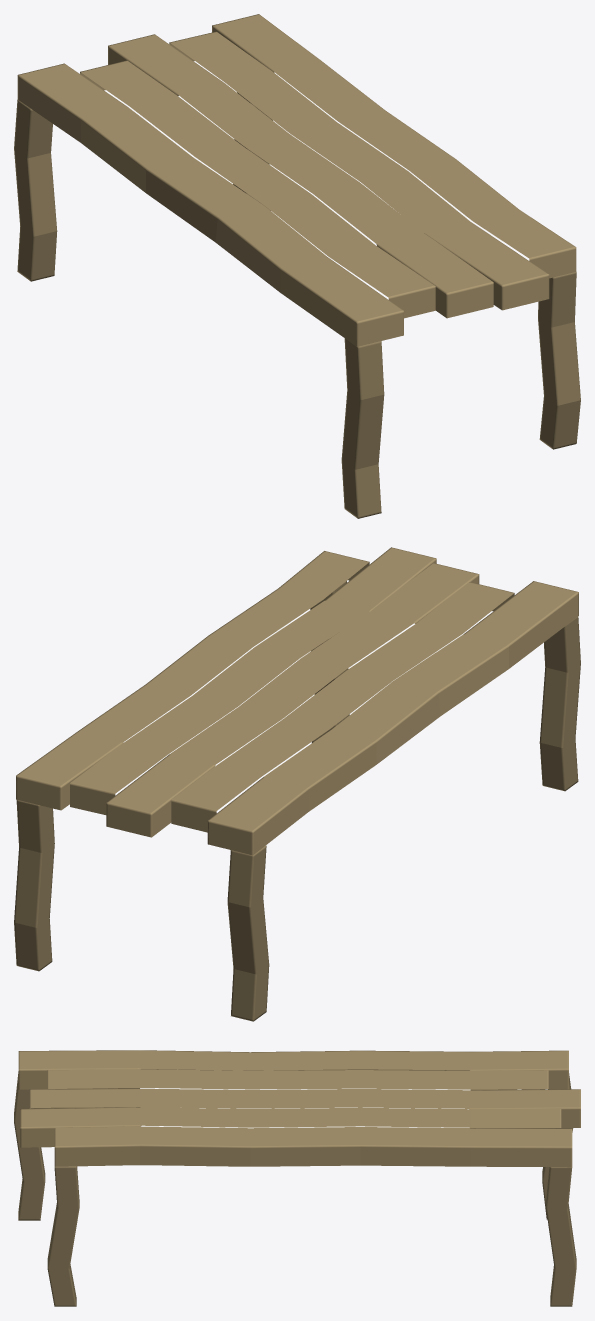
File: Wooden Table.fbx
The picture shows the model from 3 angles, top to bottom: view 1: azimuth 30°, elevation 25°; view 2: azimuth 150°, elevation 25°; view 3: azimuth 270°, elevation 25°; orthographic projection. The views are drawn at different scales.
Parts seen in each view (by area): view 1: Wooden Table Top Obj, Wooden Table Legs Obj; view 2: Wooden Table Top Obj, Wooden Table Legs Obj; view 3: Wooden Table Top Obj, Wooden Table Legs Obj.
Boxes of the visible parts, x1,y1,x2,y2 form: Wooden Table Top Obj: (17, 14, 576, 346); Wooden Table Legs Obj: (14, 92, 580, 518); Wooden Table Top Obj: (16, 547, 578, 855); Wooden Table Legs Obj: (14, 581, 580, 1021); Wooden Table Top Obj: (18, 1050, 580, 1167); Wooden Table Legs Obj: (14, 1071, 576, 1306).
Bounding box in the file's own units: 208 × 160 × 514.
